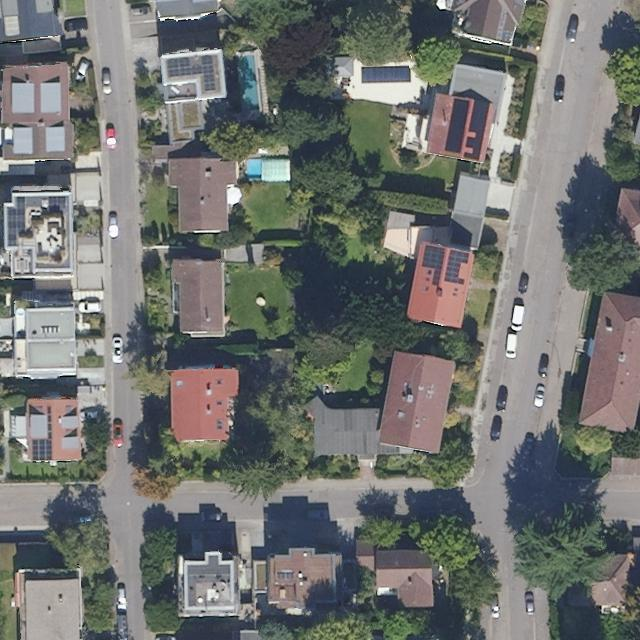PV: (165, 55, 217, 92), (463, 97, 491, 162), (443, 97, 472, 155), (420, 243, 447, 288), (31, 406, 53, 461), (442, 248, 471, 286), (5, 196, 26, 247), (48, 196, 66, 212)
